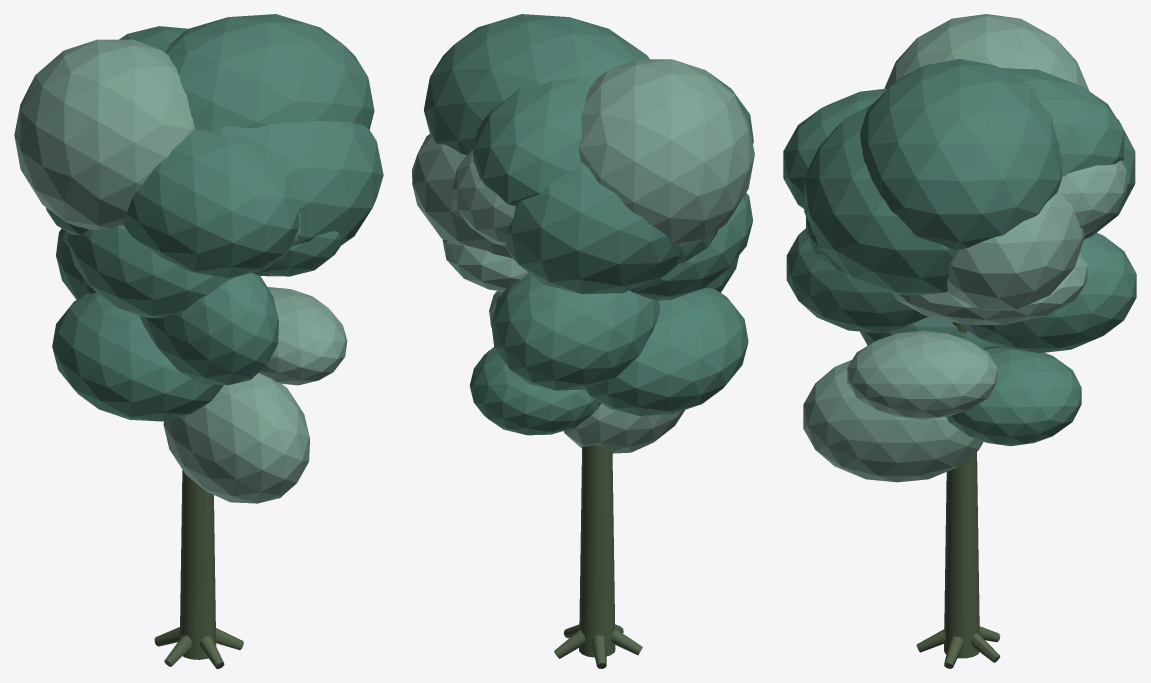
Rendered from marsh-horsetail-tower.glb.
3 views of the same model, side by side, from view 1: azimuth 30°, elevation 25°; view 2: azimuth 150°, elevation 25°; view 3: azimuth 270°, elevation 25° (orthographic). The views are drawn at different scales.
Parts seen in each view (by area): view 1: crown-6, crown-2, crown-8, foliage-0, foliage-2, crown-1, foliage-5, crown-7, foliage-3, trunk, foliage-8, foliage-4 (+1 smaller); view 2: crown-6, crown-2, crown-5, foliage-4, foliage-2, crown-4, trunk, foliage-1, crown-3, crown-7, foliage-0, foliage-9 (+2 smaller); view 3: crown-2, crown-1, foliage-0, foliage-3, crown-3, foliage-1, foliage-4, crown-6, foliage-5, trunk, crown-4, foliage-6 (+4 smaller).
Part boxes in pixels (bbox=[...]): crown-6: bbox=[14, 39, 194, 229]; crown-2: bbox=[165, 14, 374, 131]; crown-8: bbox=[123, 129, 299, 278]; foliage-0: bbox=[163, 372, 309, 503]; foliage-2: bbox=[52, 293, 223, 421]; crown-1: bbox=[208, 121, 383, 275]; foliage-5: bbox=[140, 272, 278, 385]; crown-7: bbox=[67, 224, 244, 317]; foliage-3: bbox=[259, 287, 347, 385]; trunk: bbox=[180, 470, 216, 659]; foliage-8: bbox=[262, 231, 345, 276]; foliage-4: bbox=[56, 228, 96, 299]; crown-6: bbox=[578, 59, 754, 244]; crown-2: bbox=[423, 14, 649, 154]; crown-5: bbox=[504, 162, 680, 294]; foliage-4: bbox=[491, 273, 659, 390]; foliage-2: bbox=[585, 288, 748, 415]; crown-4: bbox=[472, 77, 596, 205]; trunk: bbox=[579, 445, 615, 657]; foliage-1: bbox=[469, 347, 601, 435]; crown-3: bbox=[412, 134, 512, 258]; crown-7: bbox=[630, 192, 752, 300]; foliage-0: bbox=[563, 403, 684, 453]; foliage-9: bbox=[452, 150, 515, 245]; crown-2: bbox=[860, 59, 1062, 250]; crown-1: bbox=[804, 104, 956, 295]; foliage-0: bbox=[803, 360, 983, 482]; foliage-3: bbox=[847, 330, 997, 419]; crown-3: bbox=[947, 189, 1085, 310]; foliage-1: bbox=[946, 347, 1081, 446]; foliage-4: bbox=[960, 233, 1136, 353]; crown-6: bbox=[884, 14, 1089, 91]; foliage-5: bbox=[786, 228, 927, 333]; trunk: bbox=[944, 322, 979, 658]; crown-4: bbox=[1000, 68, 1124, 176]; foliage-6: bbox=[893, 253, 1087, 324].
Bounding box in the file's own units: 2.55 × 4.76 × 2.54.
